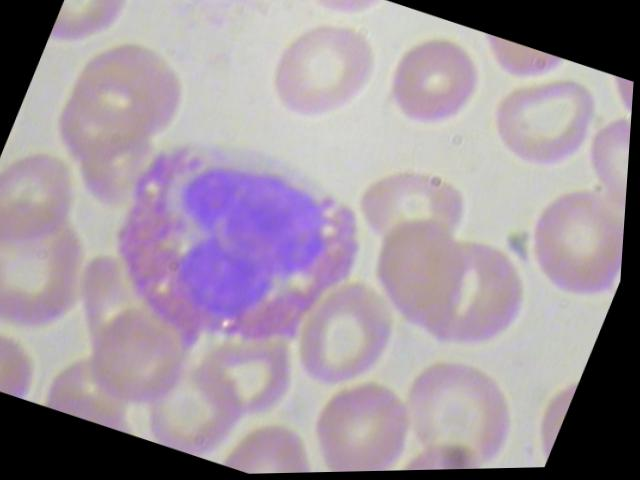Red Blood Cells: (273, 261, 429, 412), (502, 169, 630, 318), (359, 27, 502, 159), (387, 350, 541, 472), (474, 59, 616, 191), (253, 11, 396, 142), (355, 211, 483, 340), (292, 366, 437, 473), (0, 142, 96, 272), (44, 0, 148, 71), (379, 426, 521, 472)
White Blood Cells: (75, 118, 394, 380)
